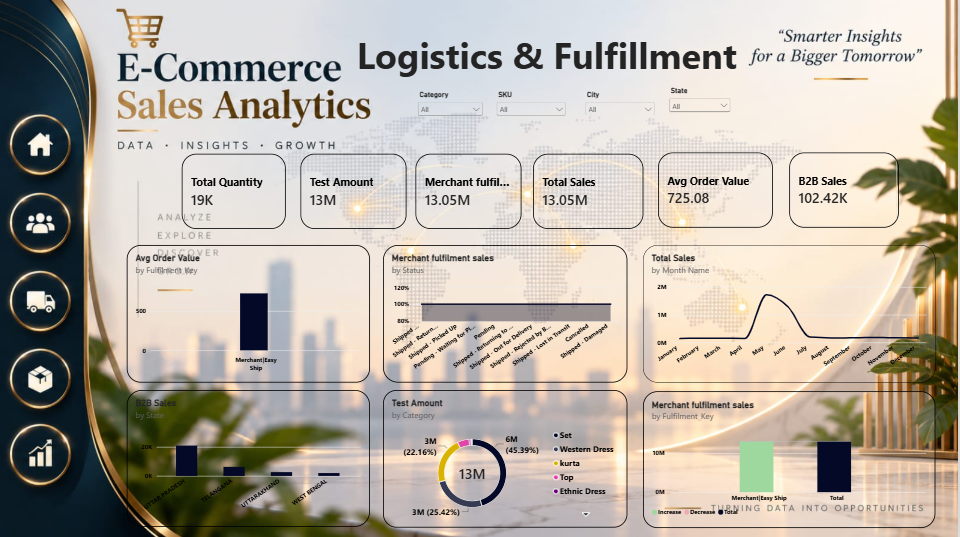

The dashboard page shown, as its layout file describes it:
{"tool":"powerbi","page":{"name":"Logistics & fullfilment","canvas":[1920,1080],"ordinal":2},"visuals":[{"type":"actionButton","box":[18.1,228,135.7,128.5],"z":0},{"type":"actionButton","box":[18.1,378.2,135.7,128.5],"z":1000},{"type":"actionButton","box":[18.1,539.3,135.7,128.5],"z":2000},{"type":"actionButton","box":[18.1,691.3,135.7,128.5],"z":3000},{"type":"actionButton","box":[19.9,846.9,135.7,128.5],"z":4000},{"type":"textbox","box":[698.5,59.7,805.3,114],"z":5000},{"type":"slicer","fields":{"Values":["Dim_Product.Category"]},"box":[836.1,179.2,139.3,70.6],"z":6000},{"type":"slicer","fields":{"Values":["Dim_Product.SKU"]},"box":[993.5,179.2,148.4,70.6],"z":7000},{"type":"slicer","fields":{"Values":["Dim_Location.City"]},"box":[1170.9,179.2,148.4,48.9],"z":8000},{"type":"slicer","fields":{"Values":["Dim_Location.State"]},"box":[1337.3,173.7,132.1,54.3],"z":9000},{"type":"lineClusteredColumnComboChart","fields":{"Category":["Dim_Fulfilment.Fulfilment_Key"],"Y":["Measure.Avg Order Value"]},"box":[257,490.4,486.8,275.1],"z":10000},{"type":"hundredPercentStackedAreaChart","fields":{"Category":["Dim_Status.Status"],"Y":["Measure.Merchant fulfilment sales"]},"box":[770.9,490.4,488.6,275.1],"z":11000},{"type":"lineChart","fields":{"Category":["Dim_Date.Month Name"],"Y":["Measure.Total Sales"]},"box":[1290.3,490.4,584.5,275.1],"z":12000},{"type":"lineStackedColumnComboChart","fields":{"Y":["Measure.B2B Sales"],"Category":["Dim_Location.State"]},"box":[257,780,486.8,273.3],"z":13000},{"type":"donutChart","fields":{"Category":["Dim_Product.Category"],"Y":["Measure.Test Amount"]},"box":[770.9,780,488.6,275.1],"z":14000},{"type":"waterfallChart","fields":{"Y":["Measure.Merchant fulfilment sales"],"Category":["Dim_Fulfilment.Fulfilment_Key"]},"box":[1290.3,781.8,584.5,273.3],"z":15000},{"type":"cardVisual","fields":{"Data":["Measure.Total Quantity"]},"box":[367.4,307.6,208.1,150.2],"z":16000},{"type":"cardVisual","fields":{"Data":["Measure.Test Amount"]},"box":[606.2,307.6,211.7,150.2],"z":17000},{"type":"cardVisual","fields":{"Data":["Measure.Merchant fulfilment sales"]},"box":[836.1,307.6,211.7,150.2],"z":18000},{"type":"cardVisual","fields":{"Data":["Measure.Total Sales"]},"box":[1069.5,307.6,220.8,150.2],"z":19000},{"type":"cardVisual","fields":{"Data":["Measure.Avg Order Value"]},"box":[1319.2,304,229.8,150.2],"z":20000},{"type":"cardVisual","fields":{"Data":["Measure.B2B Sales"]},"box":[1583.5,304,219,150.2],"z":21000}]}

Visuals, with their boxes in screenshot pixels (x1, y1, x2, y2), scaled from the page's 1920x1080 canvas onto the 960x537 screenshot:
actionButton: pyautogui.locateOnScreen(9, 113, 77, 177)
actionButton: pyautogui.locateOnScreen(9, 188, 77, 252)
actionButton: pyautogui.locateOnScreen(9, 268, 77, 332)
actionButton: pyautogui.locateOnScreen(9, 344, 77, 408)
actionButton: pyautogui.locateOnScreen(10, 421, 78, 485)
textbox: pyautogui.locateOnScreen(349, 30, 752, 86)
slicer - Dim_Product.Category: pyautogui.locateOnScreen(418, 89, 488, 124)
slicer - Dim_Product.SKU: pyautogui.locateOnScreen(497, 89, 571, 124)
slicer - Dim_Location.City: pyautogui.locateOnScreen(585, 89, 660, 113)
slicer - Dim_Location.State: pyautogui.locateOnScreen(669, 86, 735, 113)
lineClusteredColumnComboChart - Dim_Fulfilment.Fulfilment_Key x Measure.Avg Order Value: pyautogui.locateOnScreen(128, 244, 372, 381)
hundredPercentStackedAreaChart - Dim_Status.Status x Measure.Merchant fulfilment sales: pyautogui.locateOnScreen(385, 244, 630, 381)
lineChart - Dim_Date.Month Name x Measure.Total Sales: pyautogui.locateOnScreen(645, 244, 937, 381)
lineStackedColumnComboChart - Measure.B2B Sales x Dim_Location.State: pyautogui.locateOnScreen(128, 388, 372, 524)
donutChart - Dim_Product.Category x Measure.Test Amount: pyautogui.locateOnScreen(385, 388, 630, 525)
waterfallChart - Measure.Merchant fulfilment sales x Dim_Fulfilment.Fulfilment_Key: pyautogui.locateOnScreen(645, 389, 937, 525)
cardVisual - Measure.Total Quantity: pyautogui.locateOnScreen(184, 153, 288, 228)
cardVisual - Measure.Test Amount: pyautogui.locateOnScreen(303, 153, 409, 228)
cardVisual - Measure.Merchant fulfilment sales: pyautogui.locateOnScreen(418, 153, 524, 228)
cardVisual - Measure.Total Sales: pyautogui.locateOnScreen(535, 153, 645, 228)
cardVisual - Measure.Avg Order Value: pyautogui.locateOnScreen(660, 151, 774, 226)
cardVisual - Measure.B2B Sales: pyautogui.locateOnScreen(792, 151, 901, 226)
